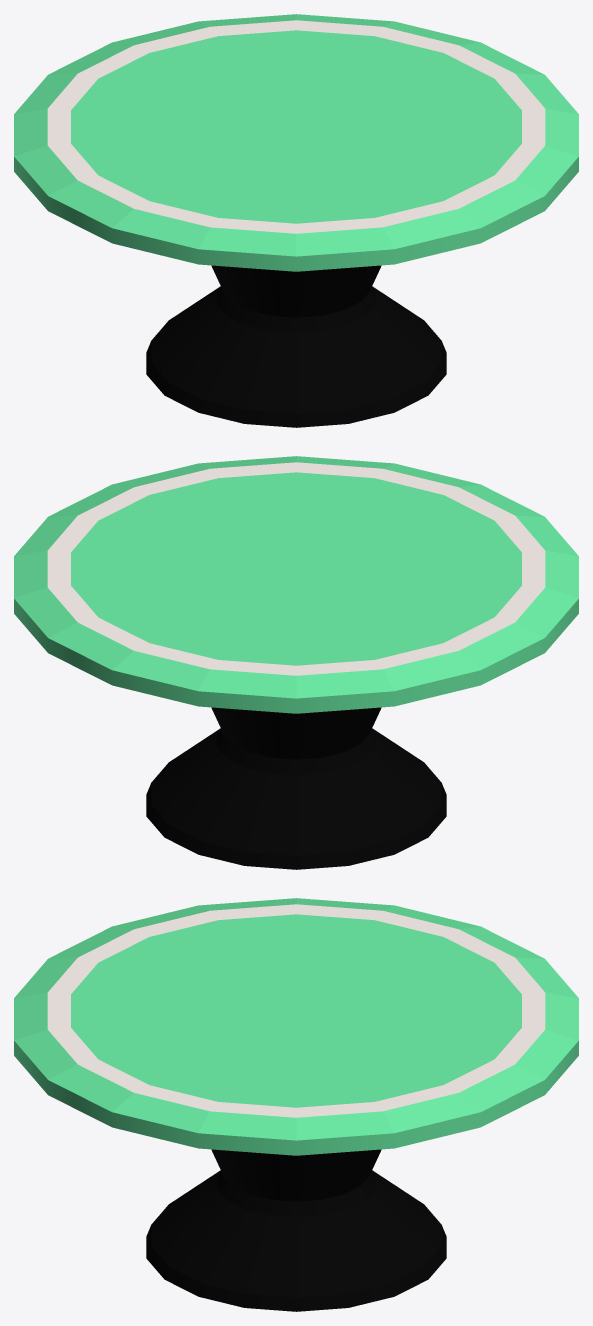
The model's file is ban 1_08.FBX.
3 renders of one model, top to bottom at view 1: azimuth 30°, elevation 25°; view 2: azimuth 150°, elevation 25°; view 3: azimuth 270°, elevation 25°, orthographic.
Parts seen in each view (by area): view 1: Cylinder132; view 2: Cylinder132; view 3: Cylinder132.
Part boxes in pixels (<box>): Cylinder132: <box>14,14,578,427</box>; Cylinder132: <box>14,456,578,869</box>; Cylinder132: <box>14,898,578,1311</box>.
Size of the model in its own units: 3.1 by 1.41 by 3.05.
